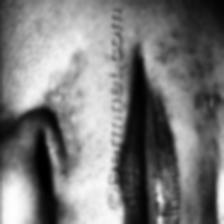Non-Cancerous Skin Condition: (154, 24, 186, 70), (56, 80, 78, 124), (198, 92, 220, 120)
